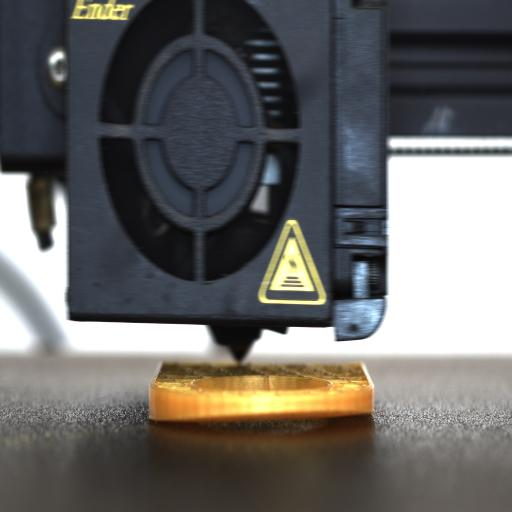warp: (150, 399, 370, 425)
